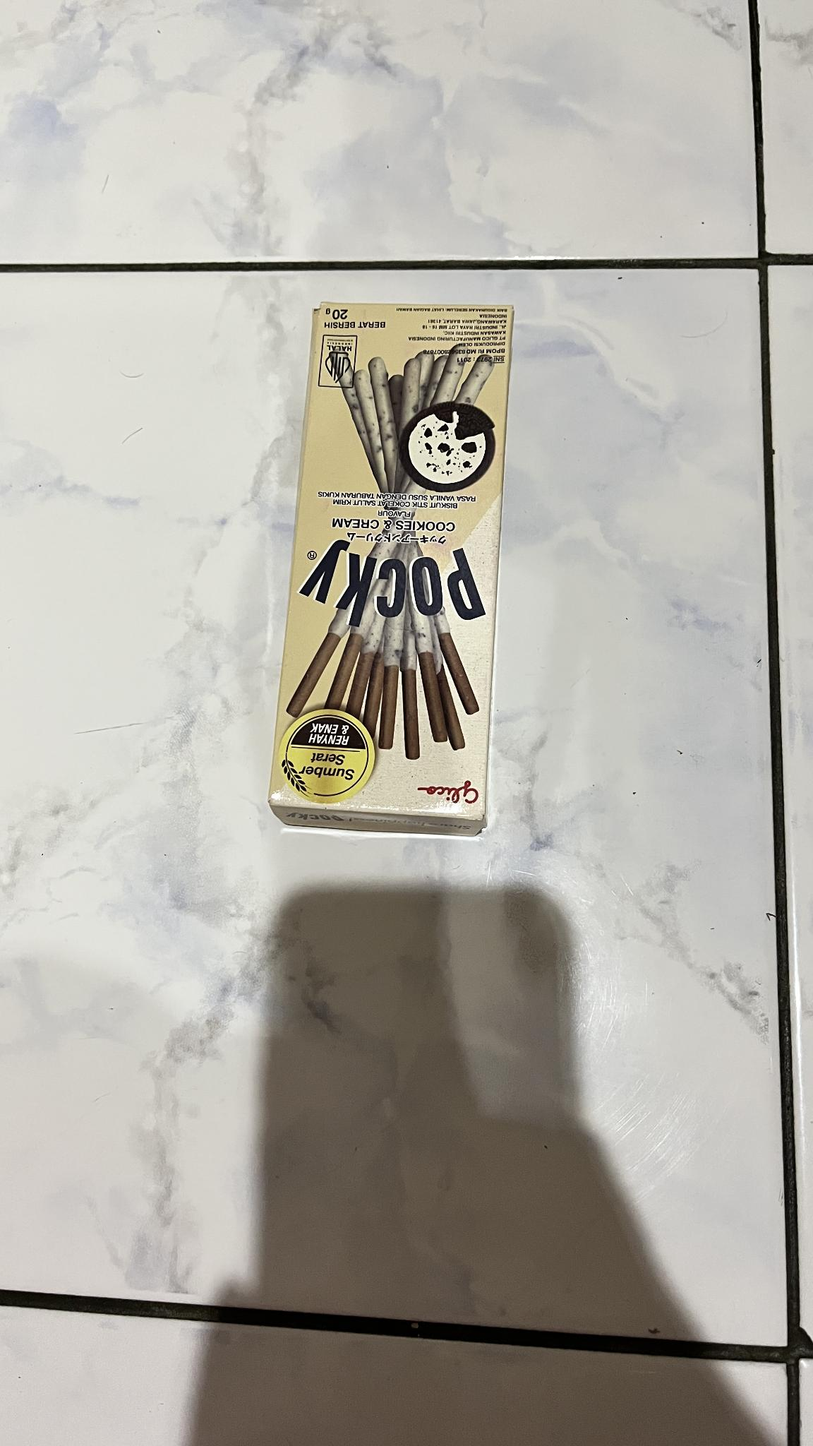Kertas: (287, 305, 520, 846)
